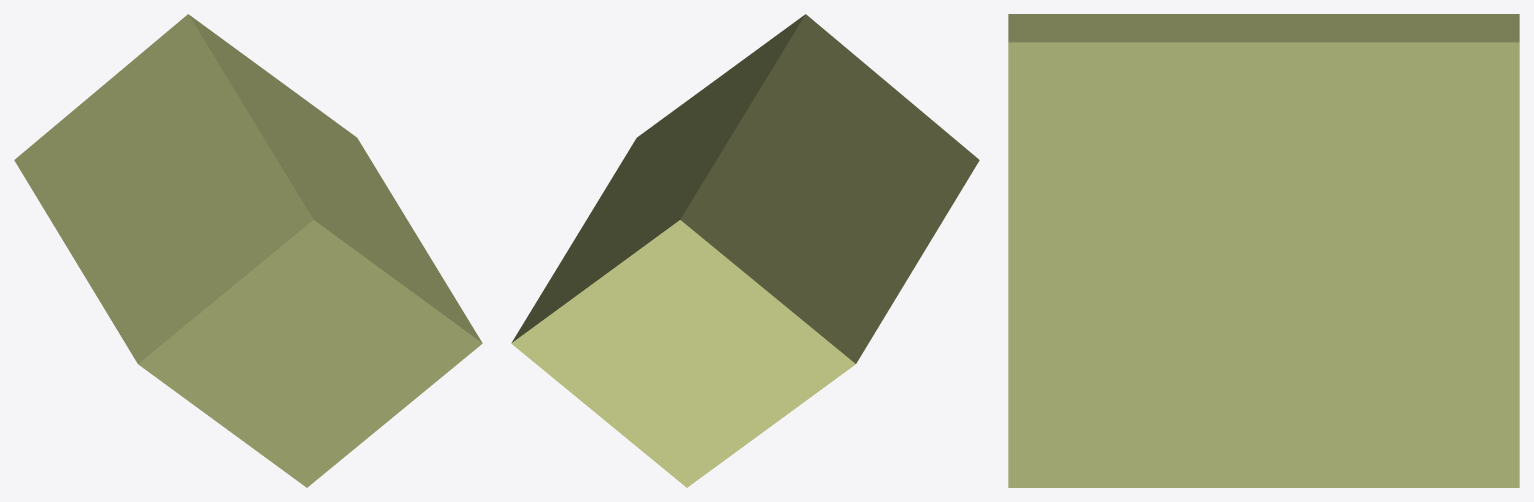
3 renders of one model, left to right at view 1: azimuth 30°, elevation 25°; view 2: azimuth 150°, elevation 25°; view 3: azimuth 270°, elevation 25°, orthographic. The views are drawn at different scales.
Visible parts, largest first — view 1: 0_1_2_0_3_3_3_1_1_1; view 2: 0_1_2_0_3_3_3_1_1_1; view 3: 0_1_2_0_3_3_3_1_1_1.
Part boxes in pixels (<box>): 0_1_2_0_3_3_3_1_1_1: <box>14,14,482,487</box>; 0_1_2_0_3_3_3_1_1_1: <box>511,14,979,487</box>; 0_1_2_0_3_3_3_1_1_1: <box>1008,14,1519,487</box>.
Size of the model in its own units: 9.21 by 9.92 by 9.
